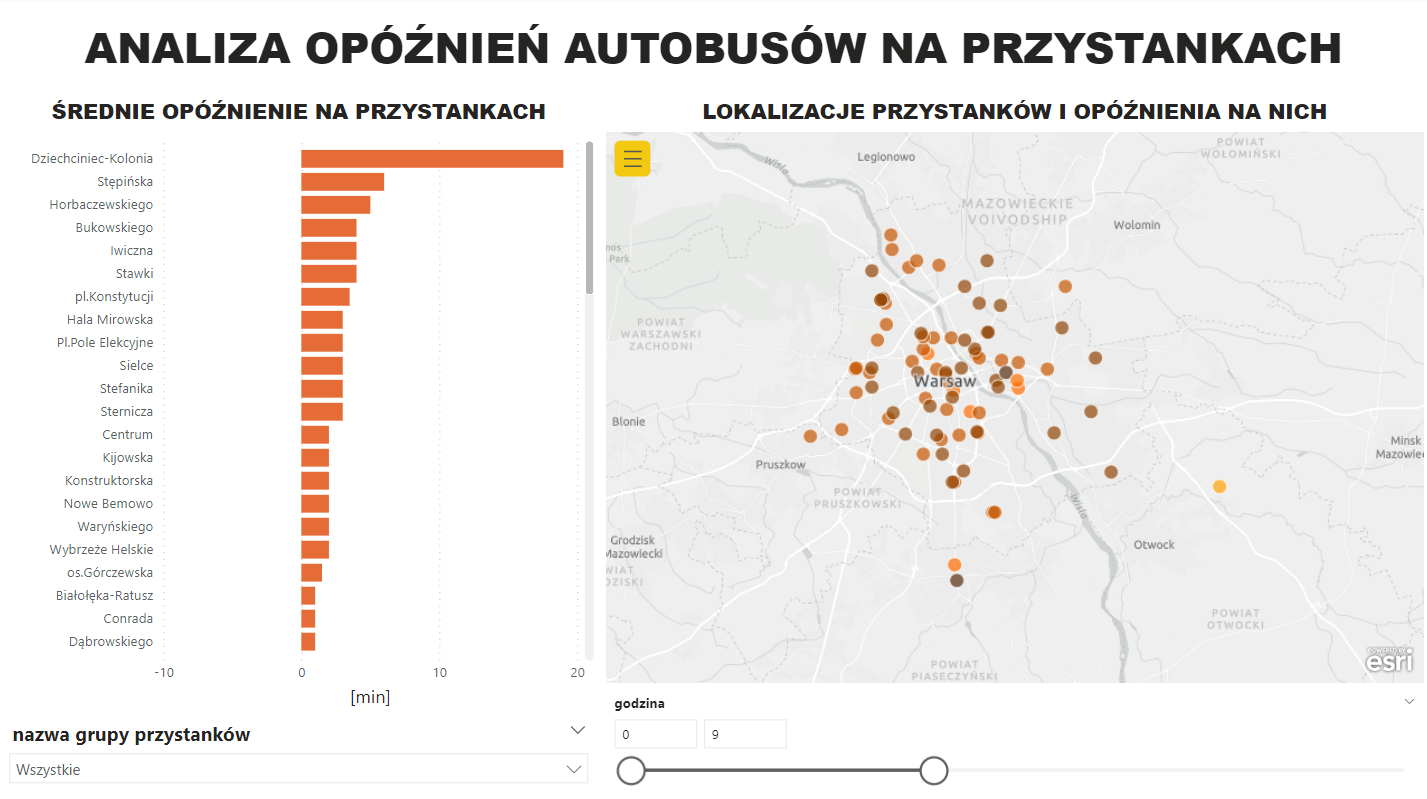

This screenshot's page, from the dashboard's own definition file:
{"tool":"powerbi","page":{"name":"MAPA","canvas":[1280,720],"ordinal":0},"visuals":[{"type":"esriVisual","fields":{"Latitude":["DimStops.lat"],"Longitude":["DimStops.lon"],"Color":["Avg(FactDelays.delay)"],"Time":["DimTime2.TimeFull"]},"box":[537.9,0,742.1,719.8],"z":0},{"type":"barChart","fields":{"Category":["DimStops.nazwa_zespolu"],"Y":["Avg(FactDelays.delay)"]},"box":[0,0,537.9,641],"z":1000},{"type":"slicer","fields":{"Values":["DimStops.nazwa_zespolu"]},"box":[0,641,537.9,78.8],"z":2000}]}

Visuals, with their boxes in screenshot pixels (x1, y1, x2, y2), scaled from the page's 1280x720 canvas onto the 1427x799 screenshot:
esriVisual - DimStops.lat x DimStops.lon: {"left": 600, "top": 0, "right": 1426, "bottom": 798}
barChart - DimStops.nazwa_zespolu x Avg(FactDelays.delay): {"left": 0, "top": 0, "right": 600, "bottom": 711}
slicer - DimStops.nazwa_zespolu: {"left": 0, "top": 711, "right": 600, "bottom": 798}
